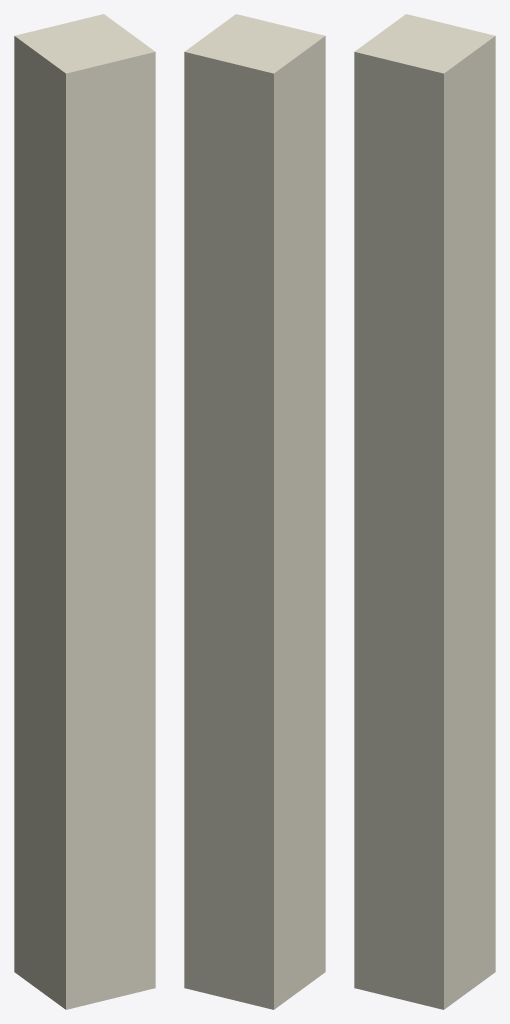
The model's file is Pillar_50x500.gltf.
3 renders of one model, left to right at view 1: azimuth 30°, elevation 25°; view 2: azimuth 150°, elevation 25°; view 3: azimuth 330°, elevation 25°, orthographic.
Visible parts, largest first — view 1: Pillar_50x500; view 2: Pillar_50x500; view 3: Pillar_50x500.
Part boxes in pixels (box(x1,y1,x2,y2)): Pillar_50x500: box(14, 14, 155, 1009); Pillar_50x500: box(184, 14, 325, 1009); Pillar_50x500: box(354, 14, 495, 1009).
Size of the model in its own units: 0.5 by 5 by 0.5.
